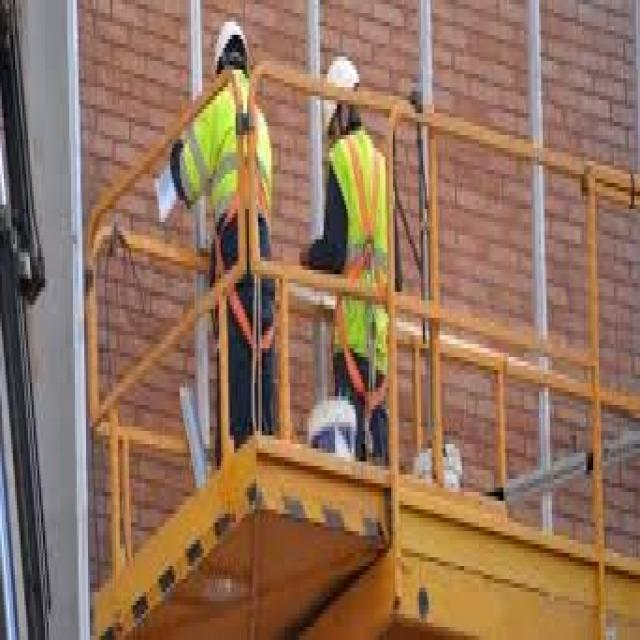Reflective-Jacket: (176, 78, 281, 305), (316, 122, 404, 387)
Safety-Helmet: (208, 4, 256, 83), (322, 39, 367, 122)
